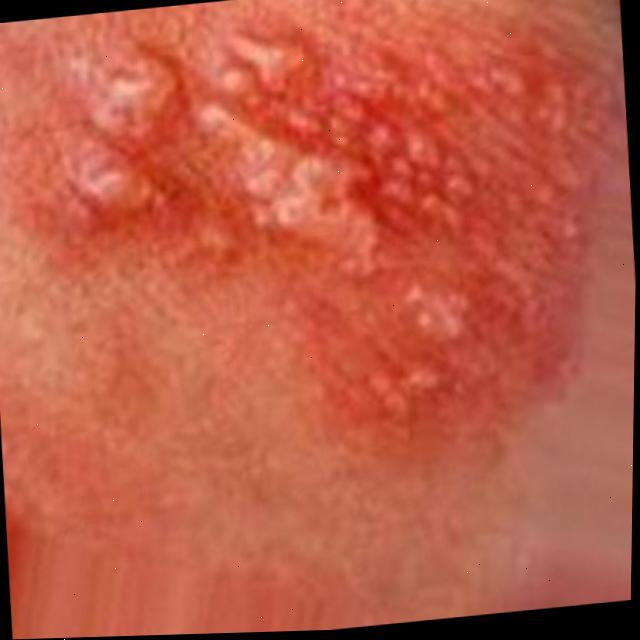Shingles: (44, 0, 615, 477)
